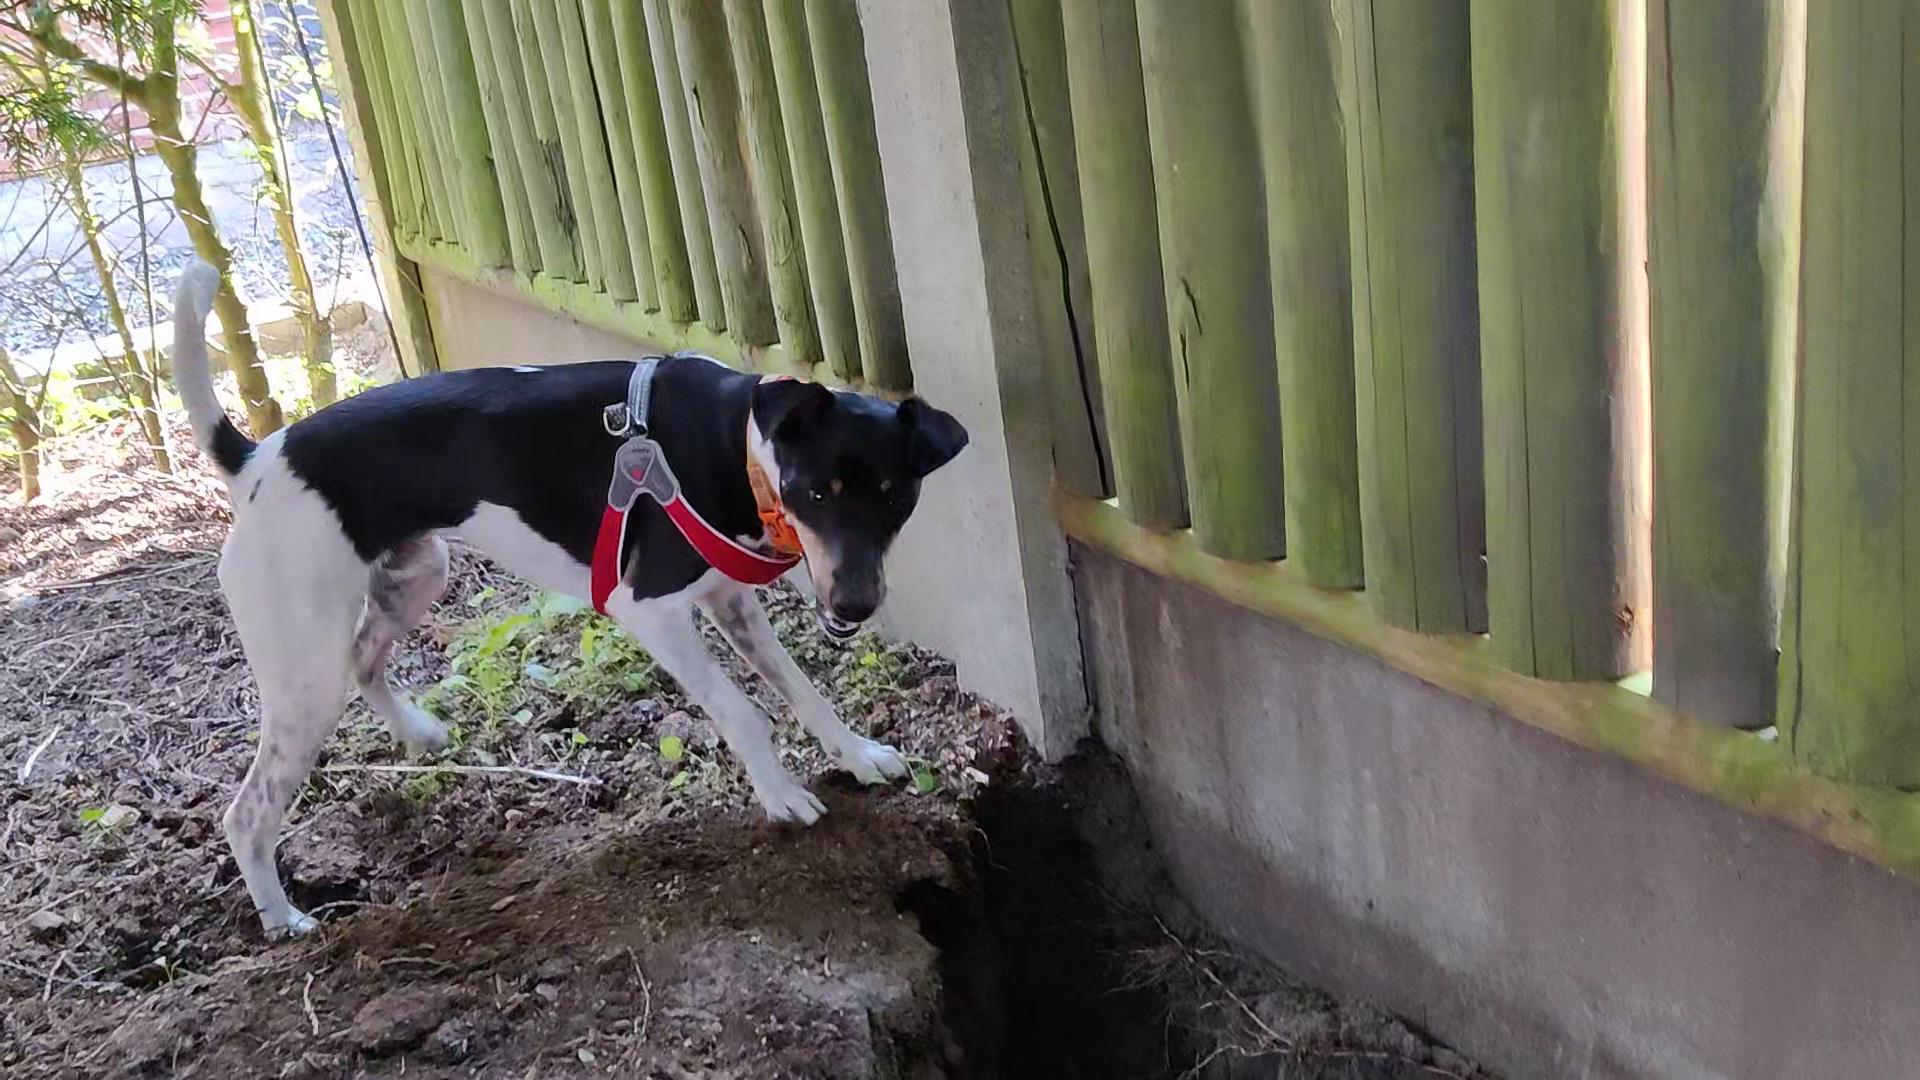Dog: (145, 235, 985, 948)
